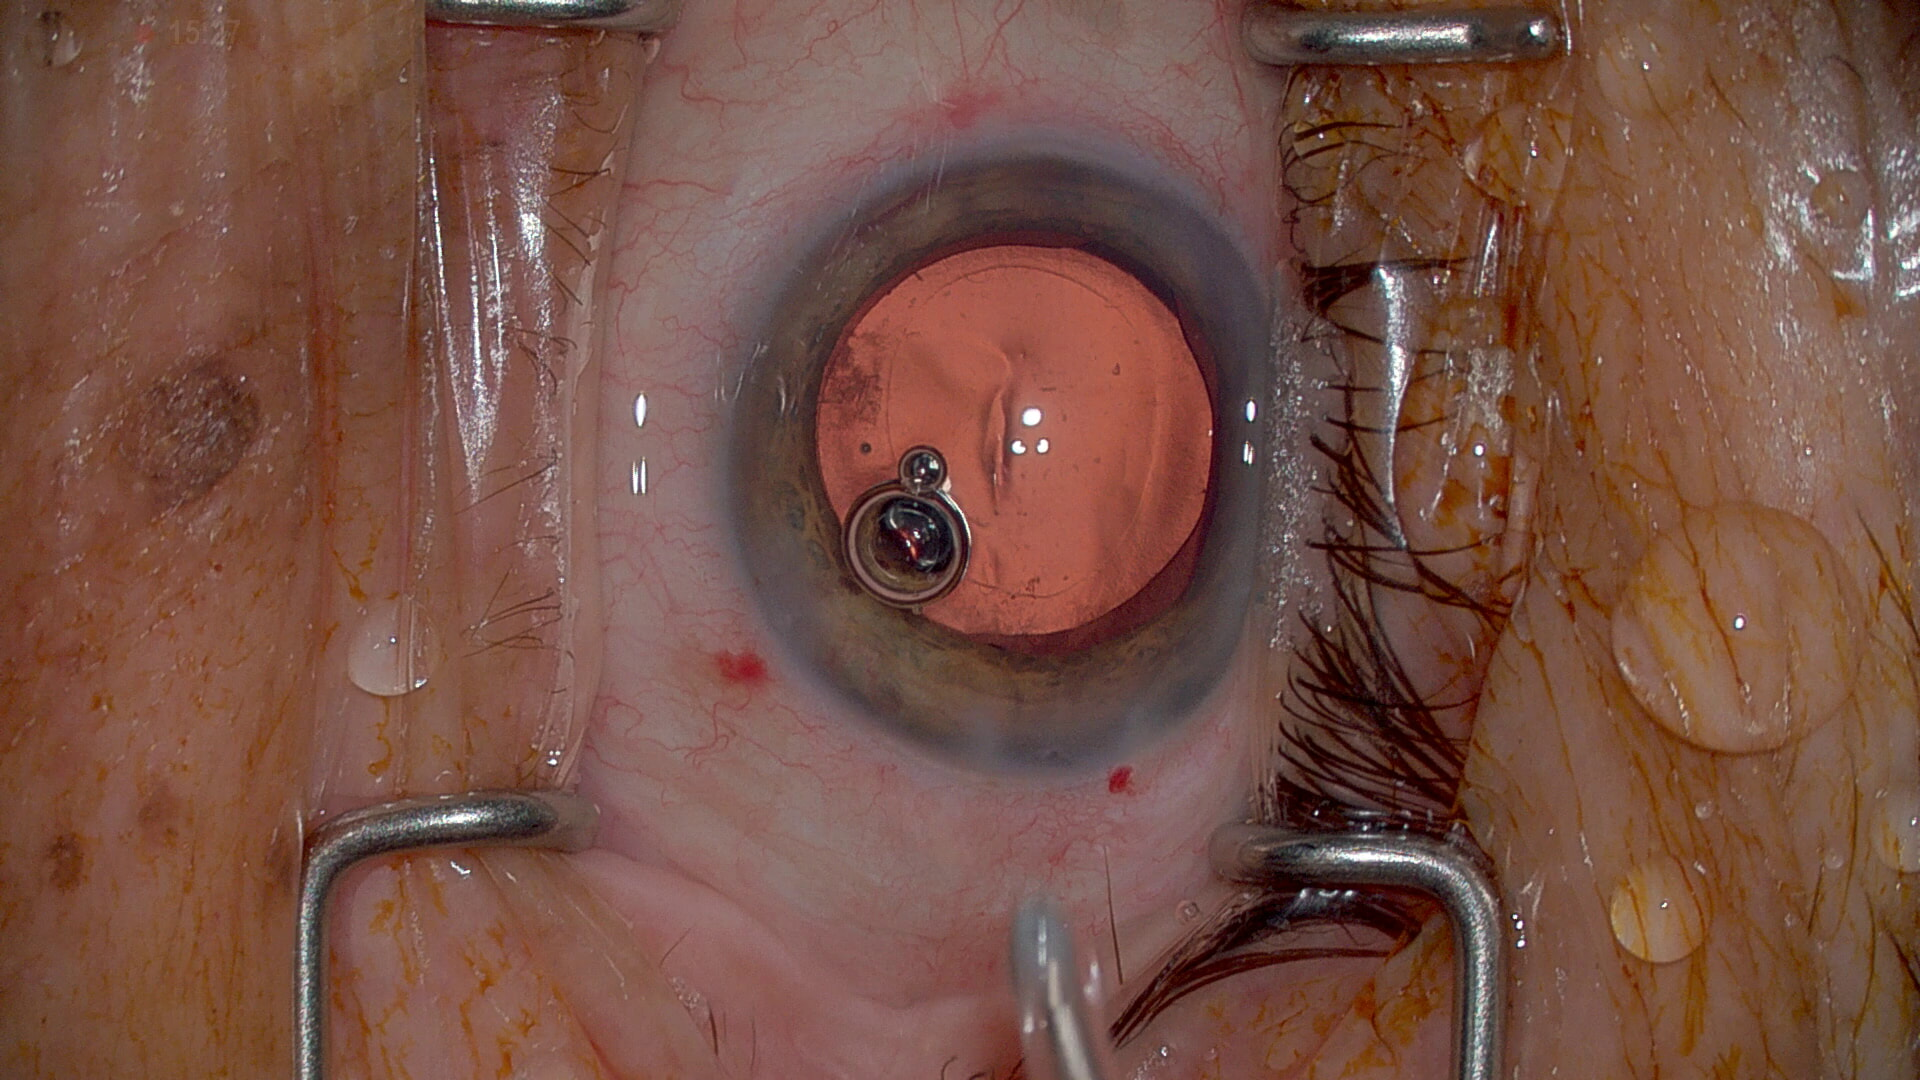iris: (747, 158, 1276, 767)
pupil: (810, 238, 1216, 663)
